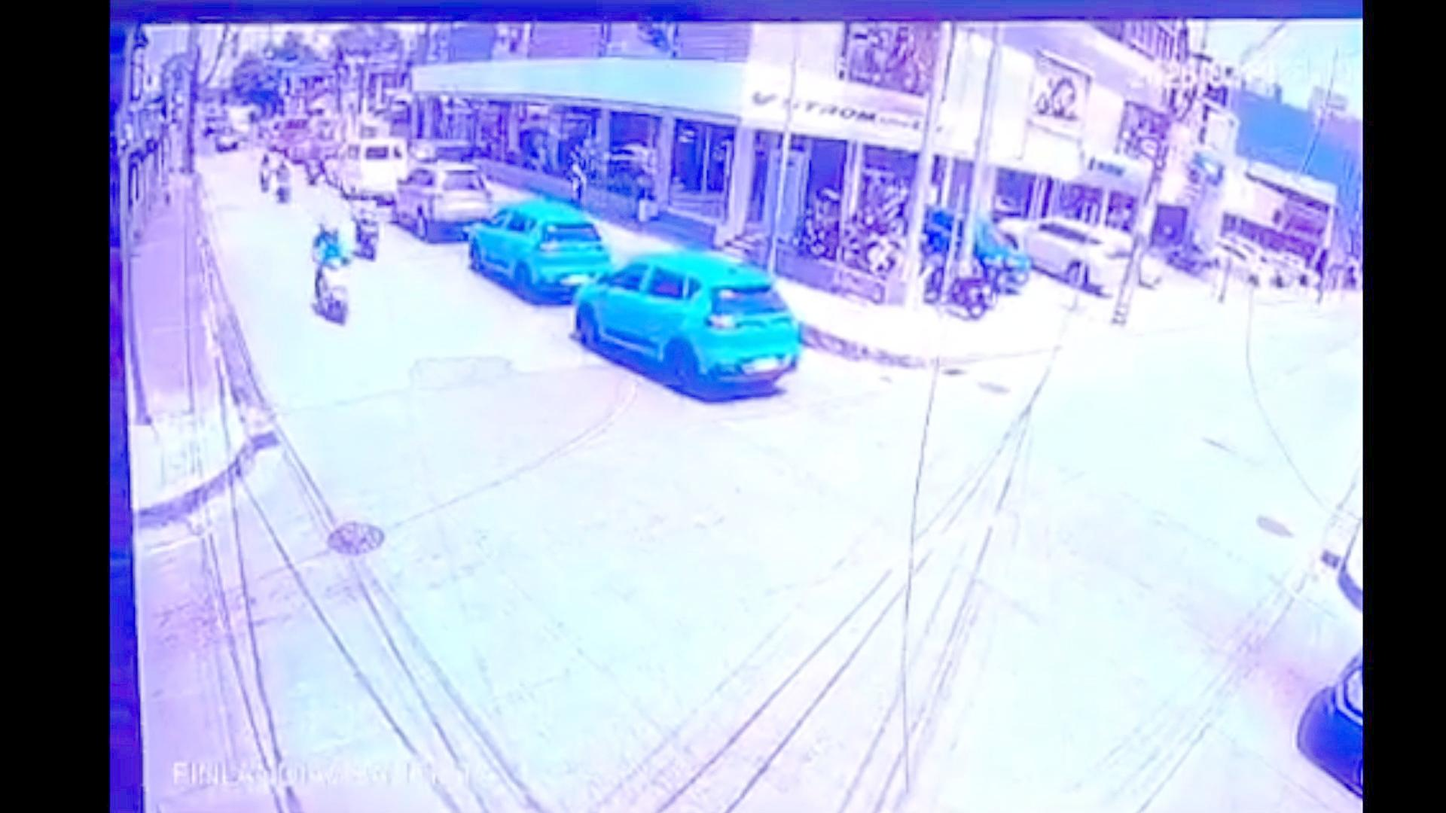Car: (581, 233, 793, 396), (465, 196, 613, 300), (1006, 216, 1147, 294), (918, 205, 1032, 295), (395, 159, 499, 240), (328, 137, 410, 203), (1210, 236, 1303, 289), (269, 117, 331, 163), (210, 109, 248, 151)
Motor: (925, 258, 992, 310), (312, 242, 350, 321), (1167, 238, 1224, 277), (351, 200, 381, 258), (302, 152, 326, 186), (259, 152, 278, 194), (273, 163, 292, 203)
